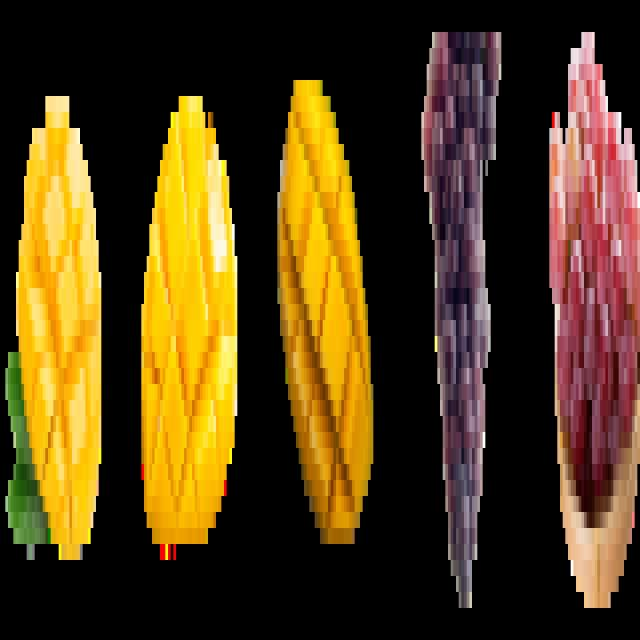grape: (541, 16, 640, 608), (418, 10, 508, 622)
mango: (271, 45, 381, 591), (5, 64, 105, 610), (136, 74, 240, 593)
